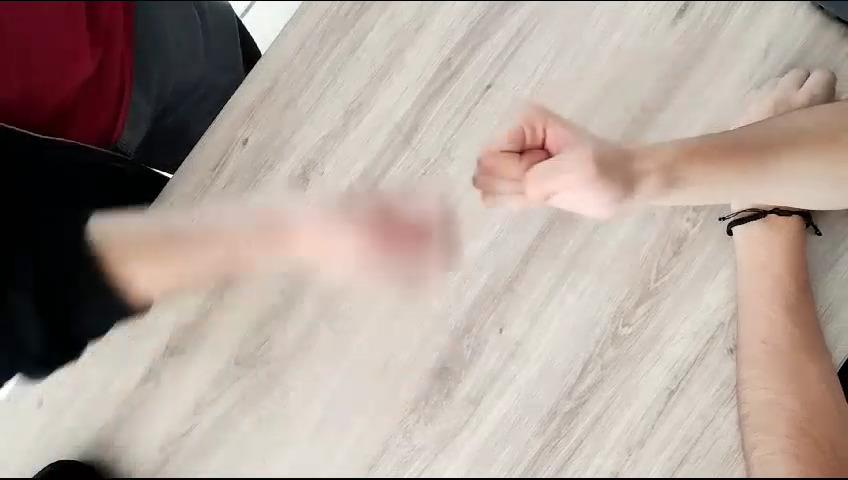Stone: (435, 94, 627, 250)
